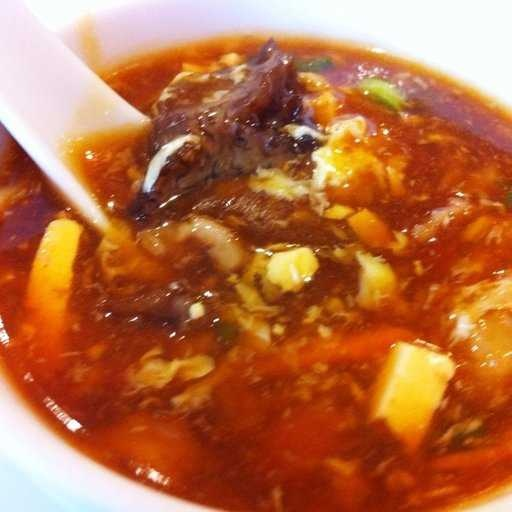soup: (5, 26, 512, 505)
